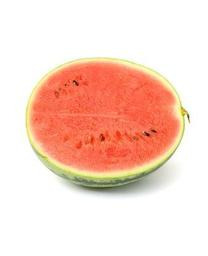watermelon: (25, 57, 188, 189)
